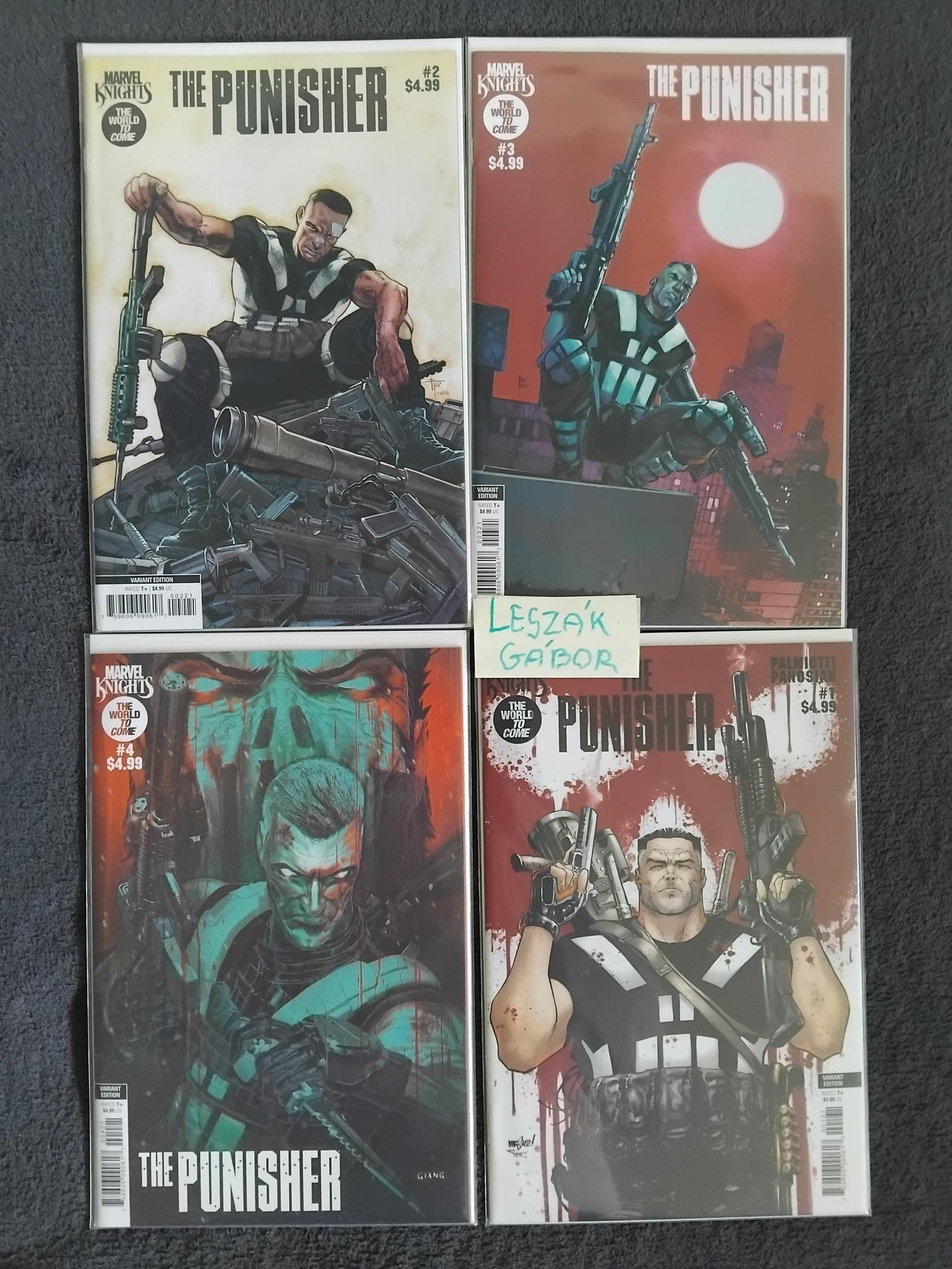comic: (78, 36, 475, 633), (476, 630, 868, 1223), (85, 630, 474, 1227), (467, 38, 847, 627)
